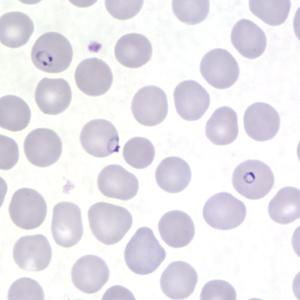Infected: (232, 159, 274, 201), (31, 32, 73, 73), (80, 119, 120, 158)
Uninfected: (123, 225, 168, 276), (88, 202, 132, 245), (202, 190, 247, 230), (9, 188, 47, 230), (131, 84, 168, 127), (200, 49, 239, 89), (51, 202, 84, 247), (75, 58, 114, 96), (24, 128, 62, 167), (173, 80, 210, 120), (243, 102, 280, 142), (96, 165, 137, 201), (12, 235, 51, 272), (158, 209, 194, 249), (71, 256, 108, 294), (160, 262, 197, 299), (156, 156, 192, 194), (204, 106, 239, 145), (231, 19, 266, 58), (34, 78, 71, 114), (114, 33, 152, 68), (268, 187, 300, 224), (0, 12, 33, 47), (0, 95, 30, 131), (123, 137, 155, 169), (251, 0, 290, 25), (172, 0, 209, 24), (8, 278, 44, 299), (106, 0, 143, 20), (200, 280, 236, 299)
